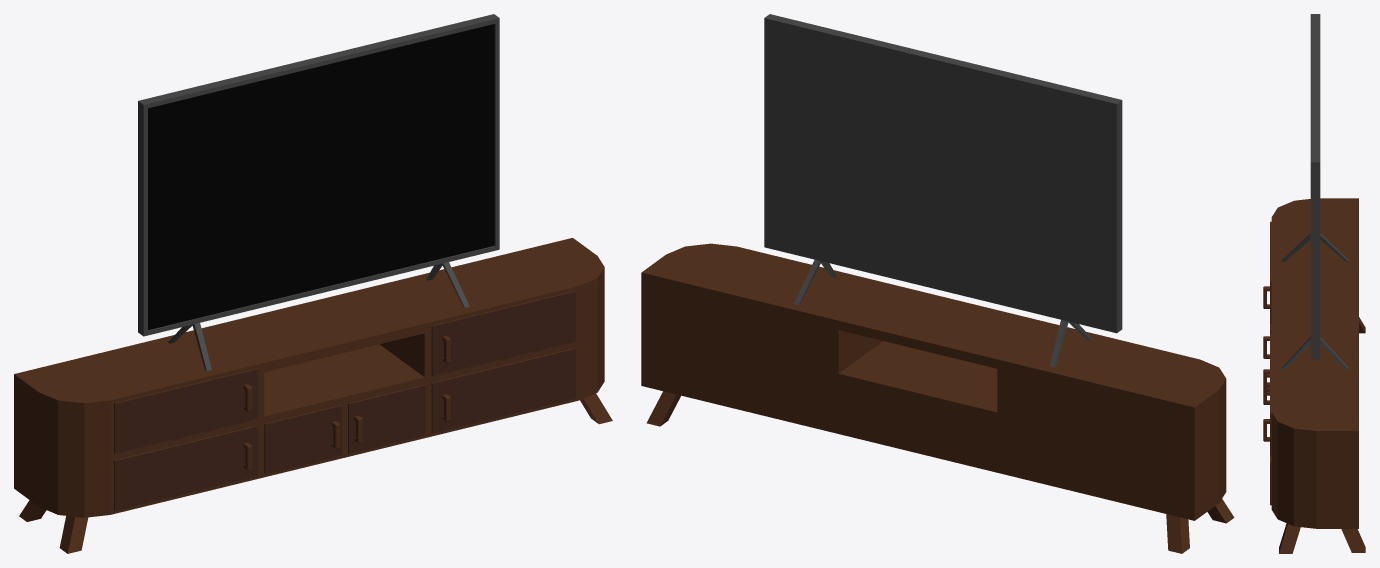
File: TvMetKast.fbx
3 renders of one model, left to right at view 1: azimuth 30°, elevation 25°; view 2: azimuth 150°, elevation 25°; view 3: azimuth 270°, elevation 25°, orthographic. The views are drawn at different scales.
Visible parts, largest first — view 1: tv, tv kast, Tv kast Deur2, Tv kast Deur1, Tv kast Deur5, Tv kast Deur6, Tv kast Deur4, Tv kast Deur3; view 2: tv kast, tv; view 3: tv kast, tv, Tv kast Deur6, Tv kast Deur1, Tv kast Deur2.
Part boxes in pixels (box(x1,y1,x2,y2)): tv: box(138, 14, 499, 370); tv kast: box(14, 238, 612, 553); Tv kast Deur2: box(431, 348, 575, 433); Tv kast Deur1: box(431, 291, 575, 376); Tv kast Deur5: box(114, 425, 258, 510); Tv kast Deur6: box(114, 368, 258, 453); Tv kast Deur4: box(264, 405, 341, 474); Tv kast Deur3: box(348, 384, 425, 453); tv kast: box(641, 243, 1234, 553); tv: box(764, 14, 1122, 367); tv kast: box(1271, 198, 1365, 553); tv: box(1282, 14, 1348, 369); Tv kast Deur6: box(1263, 221, 1271, 323); Tv kast Deur1: box(1263, 354, 1271, 456); Tv kast Deur2: box(1263, 419, 1271, 505).
Bounding box in the file's own units: 2.39 × 1.68 × 0.4437.
